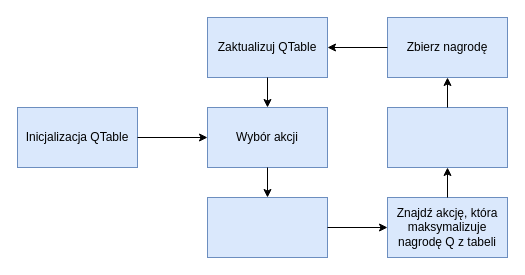
Some shapes in this 525 by 275 pixel diagram are drawn without their labels. The centre of each missing label's shape, as x and y in pixels:
Określ siłę pocisku i wystrzel: [447,137]
Pobierz pozycję przeciwnika: [267,227]
